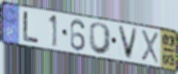1: (48, 14, 58, 49)
6: (69, 18, 87, 53)
L: (22, 10, 40, 45)
O: (88, 21, 113, 57)
V: (116, 24, 140, 62)
X: (140, 28, 160, 66)
